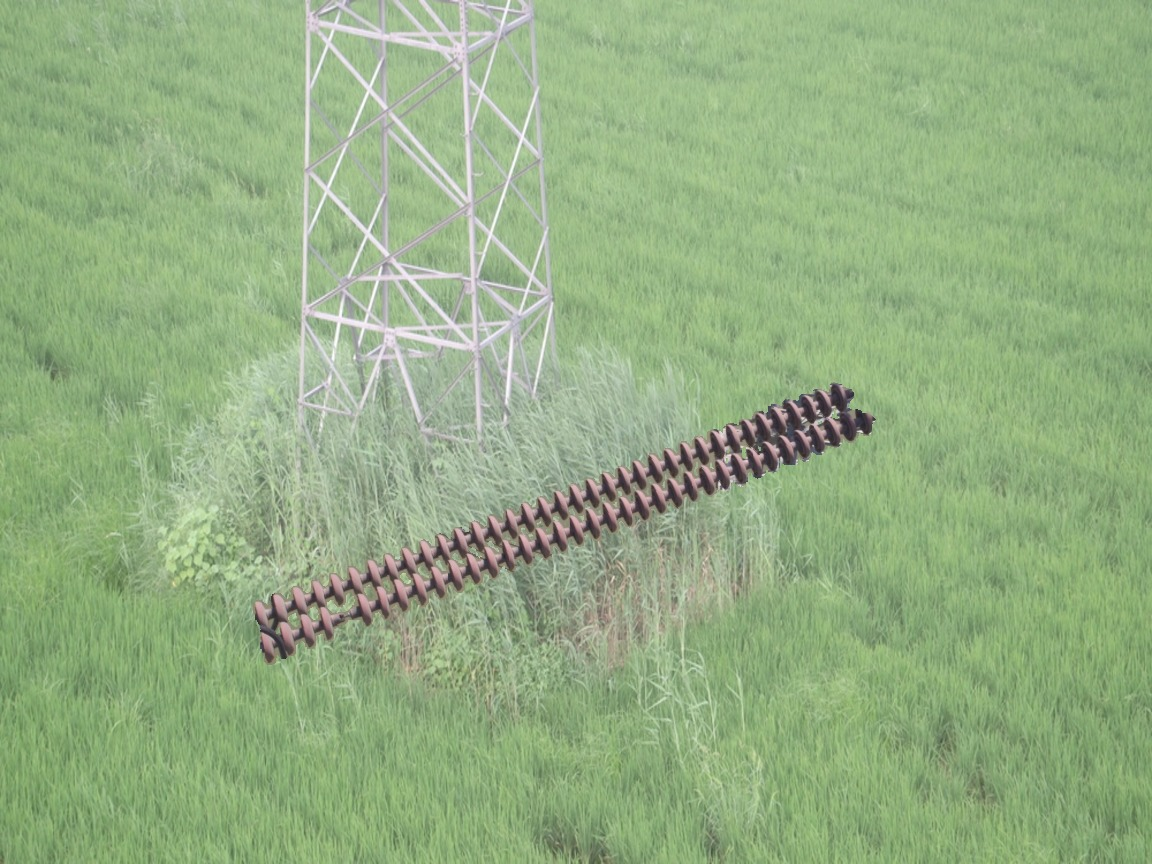defect: (313, 591, 374, 643)
